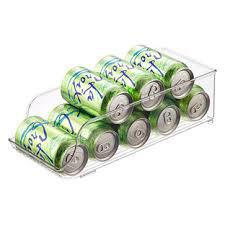beer: (14, 43, 211, 175)
